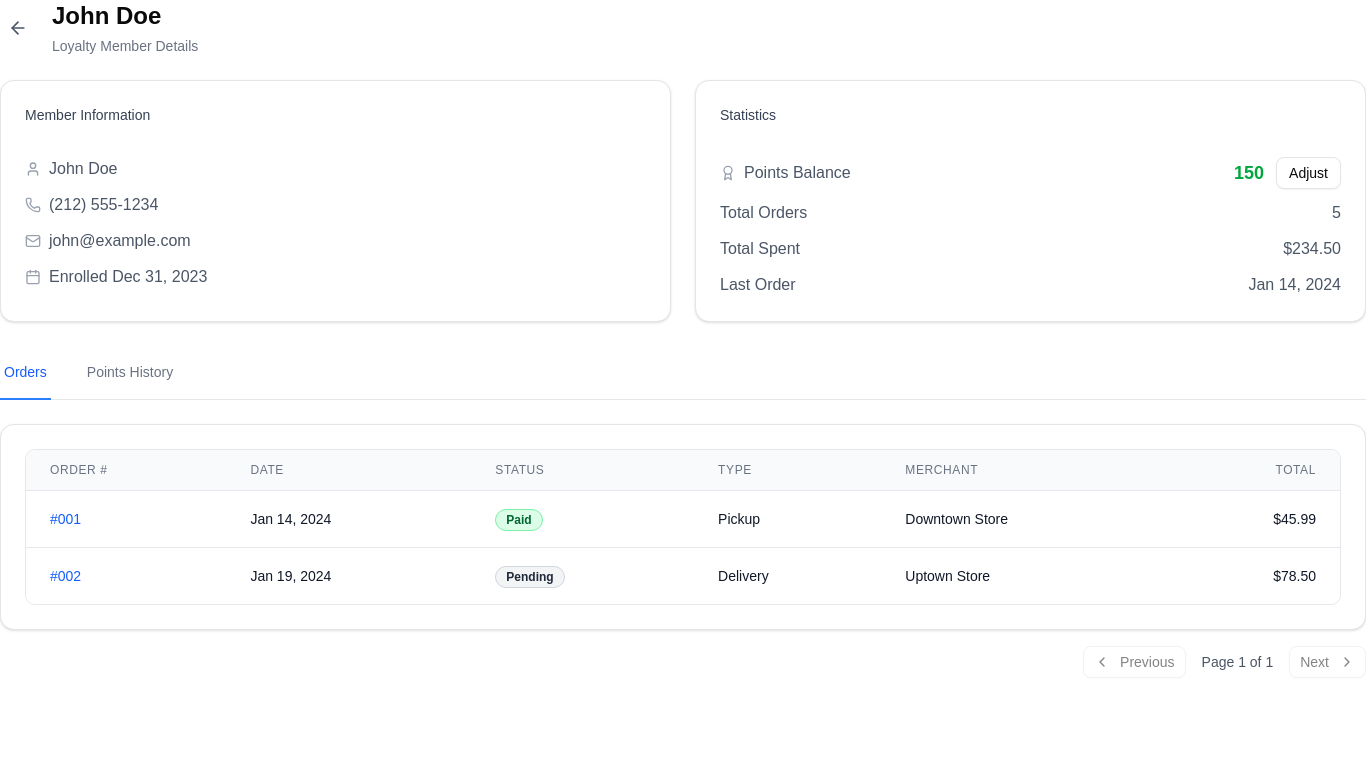
Test case: LoyaltyMemberDetailClient › Adjust Points Modal › should close adjust points modal when cancelled
Click the button "Adjust": (1309, 173) 1276,157 -> 1341,189
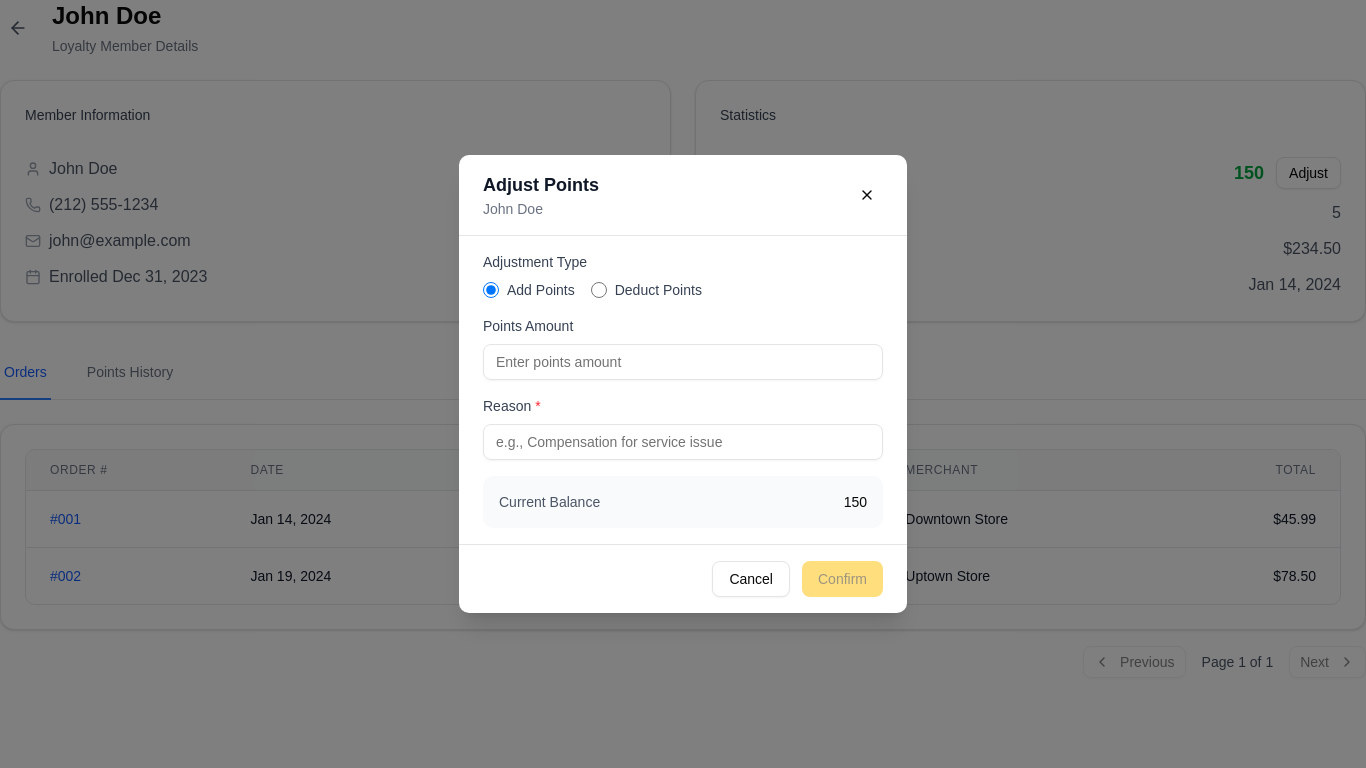
Expected: the heading "Adjust Points" is shown, 483,171 -> 599,199
Click the button "Cancel": (751, 579) 712,561 -> 790,597
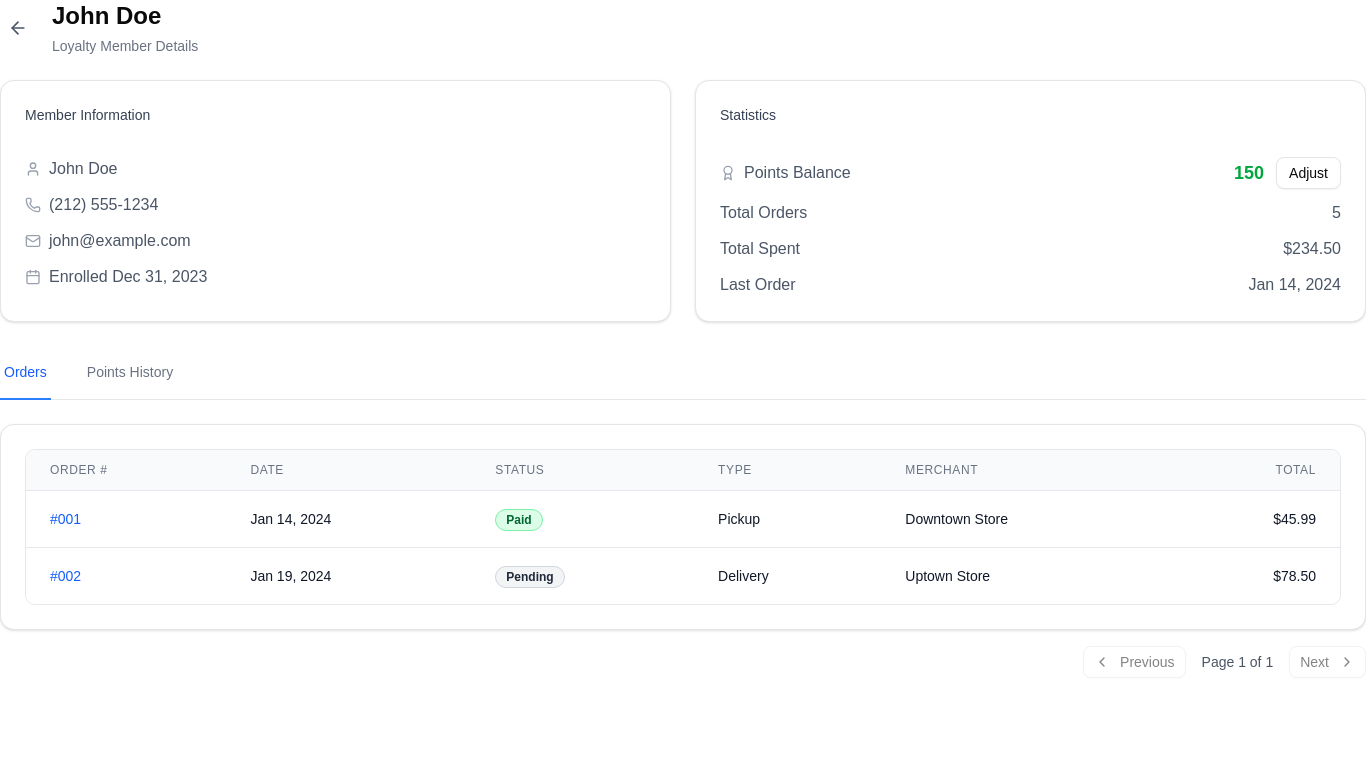
Expected: the heading "Adjust Points" is gone
